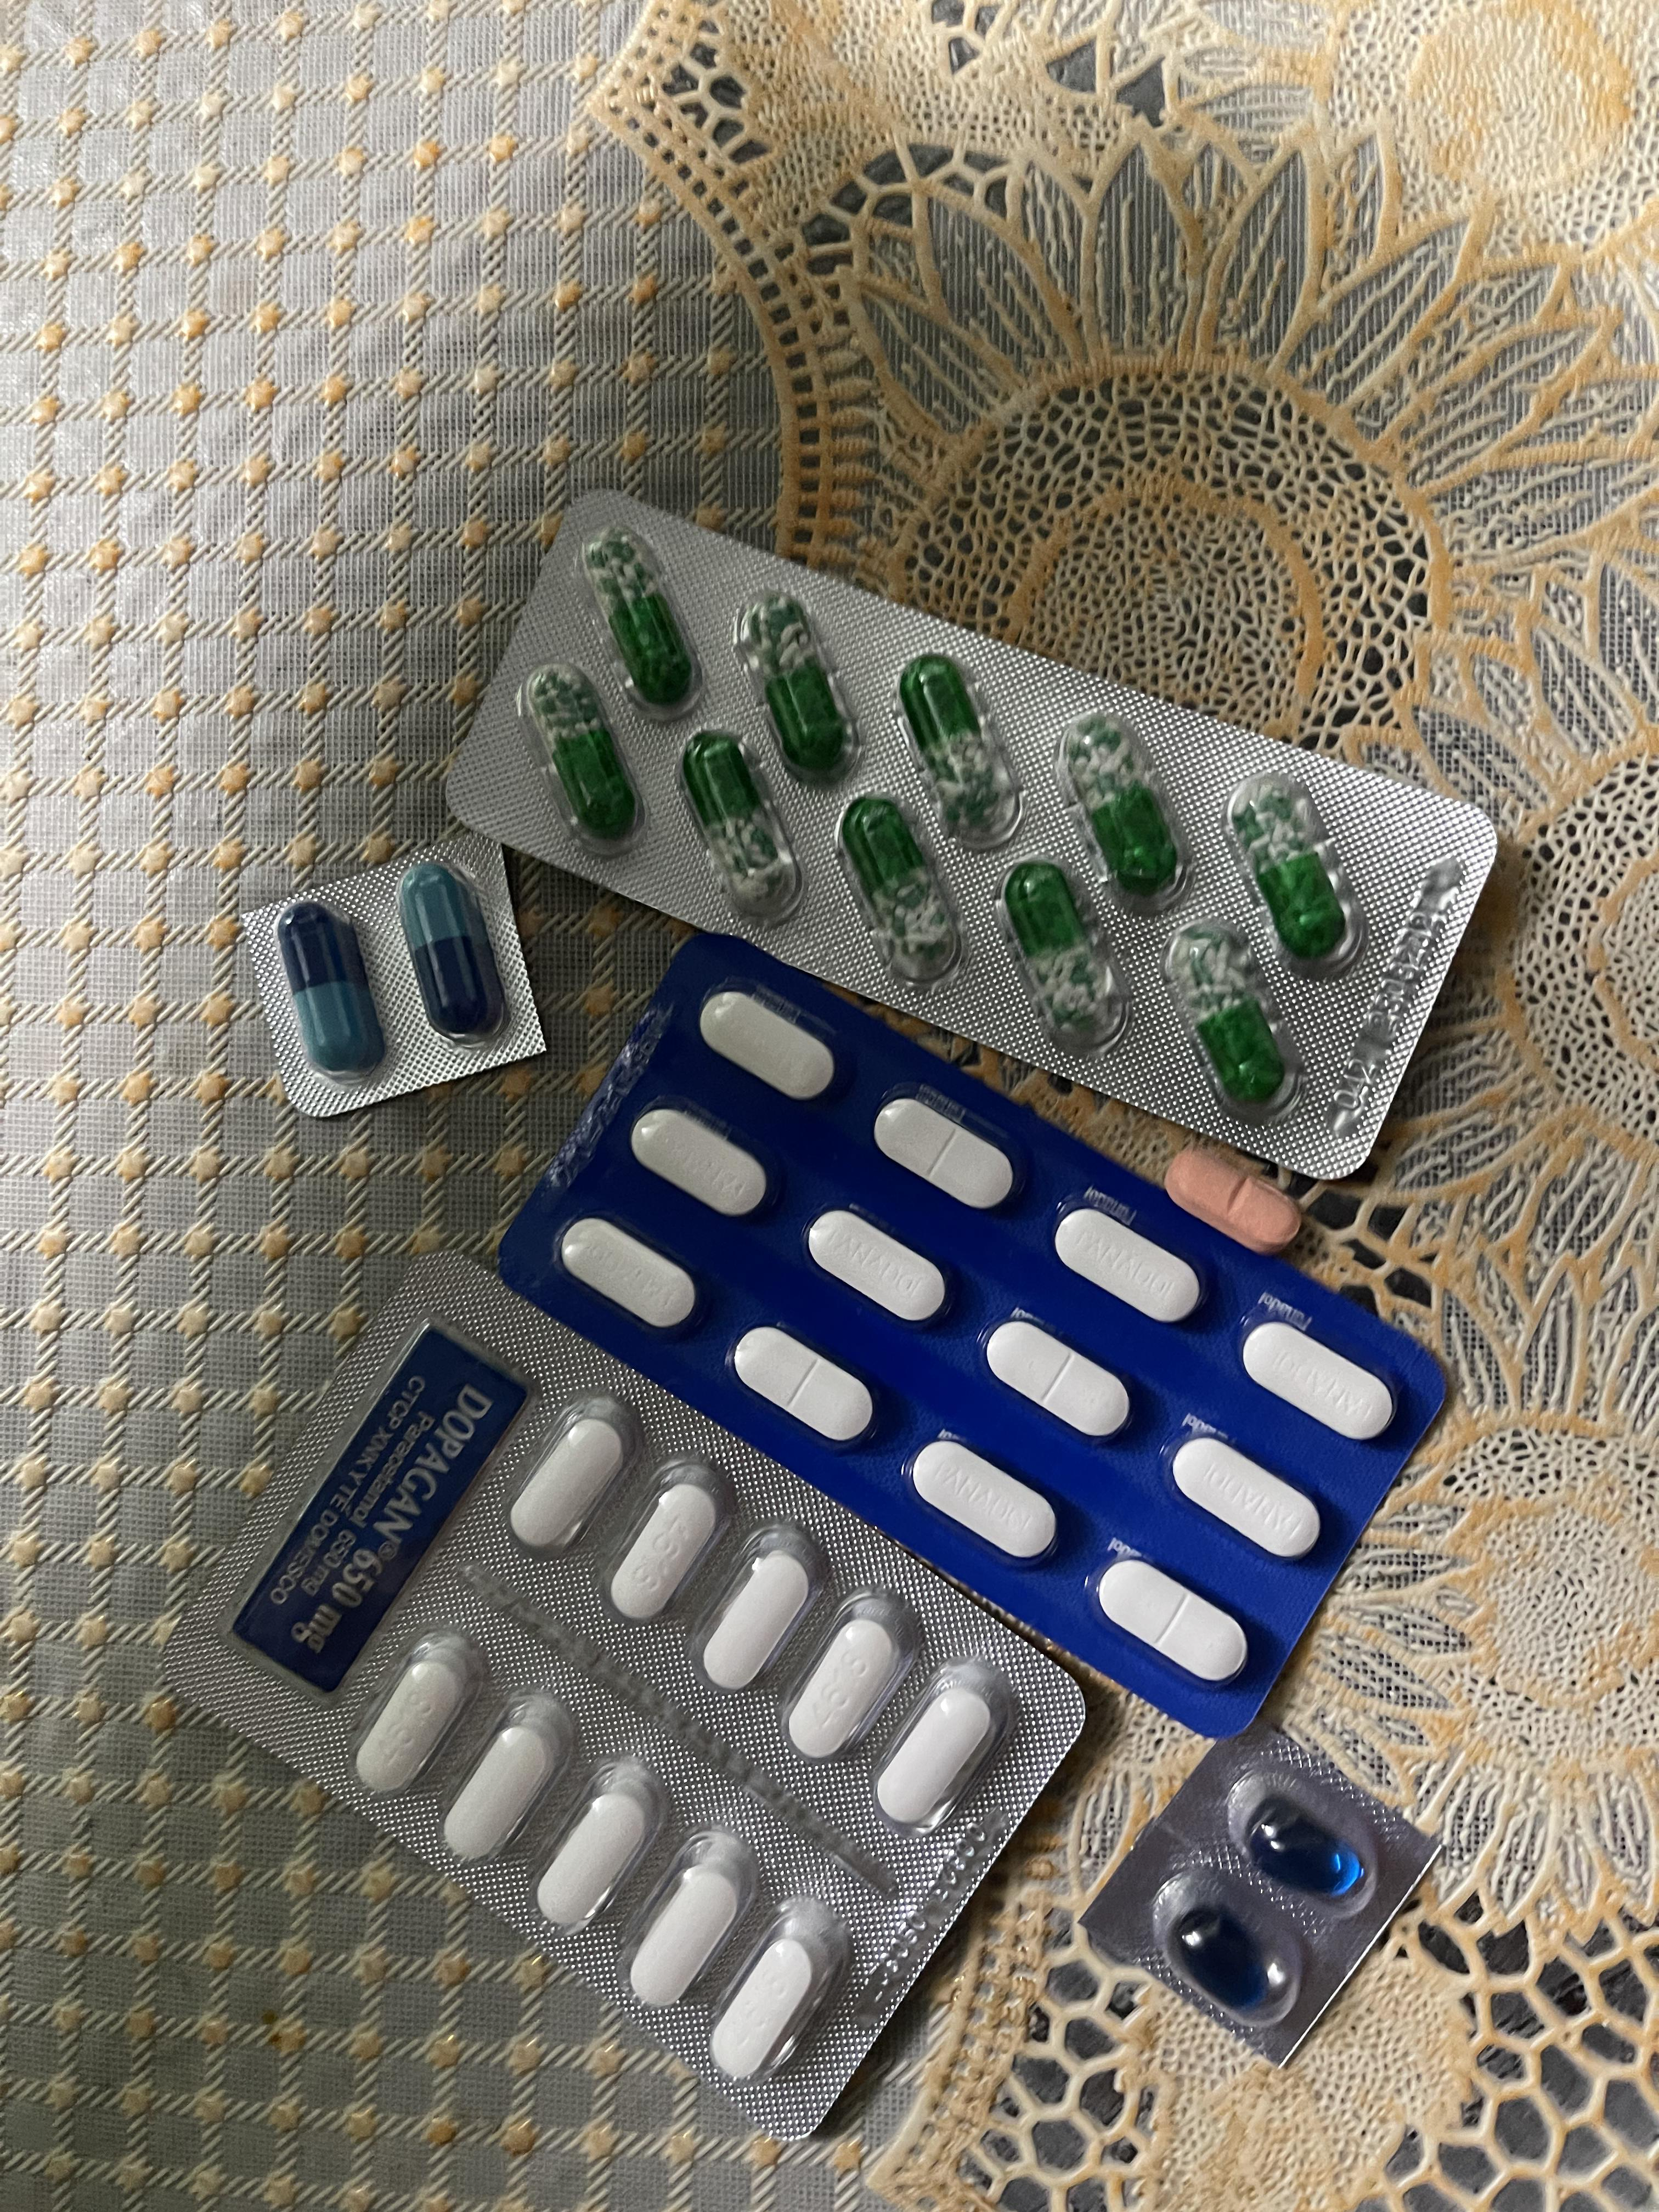Lincomyxin_500mg: (1241, 1794, 1373, 1905), (1169, 1904, 1279, 2015)
Loratadine_10mg: (1168, 1146, 1298, 1249)
Paracetamol_350mg: (1243, 1322, 1398, 1446), (908, 1440, 1056, 1566), (1096, 1557, 1243, 1683), (1171, 1439, 1317, 1562), (1054, 1207, 1204, 1325), (873, 1090, 1021, 1209), (985, 1320, 1127, 1442), (734, 1327, 873, 1449), (807, 1209, 948, 1325), (561, 1217, 701, 1334), (631, 1108, 772, 1217), (697, 989, 836, 1096)
Paracetamol_500mg: (706, 1893, 847, 2083), (866, 1656, 1012, 1834), (589, 1451, 734, 1622), (683, 1522, 826, 1695), (620, 1831, 756, 2012), (533, 1754, 671, 1930), (443, 1689, 579, 1864), (505, 1392, 645, 1552), (350, 1625, 483, 1792), (779, 1606, 906, 1757)
Paracetamol_650mg: (1223, 773, 1359, 972), (1162, 918, 1297, 1111), (993, 855, 1126, 1047), (1058, 712, 1187, 899), (577, 523, 699, 718), (518, 664, 643, 852), (739, 594, 857, 787), (835, 798, 960, 979), (899, 657, 1019, 843), (678, 728, 796, 913)
pill: (275, 900, 385, 1076), (399, 864, 505, 1040)
